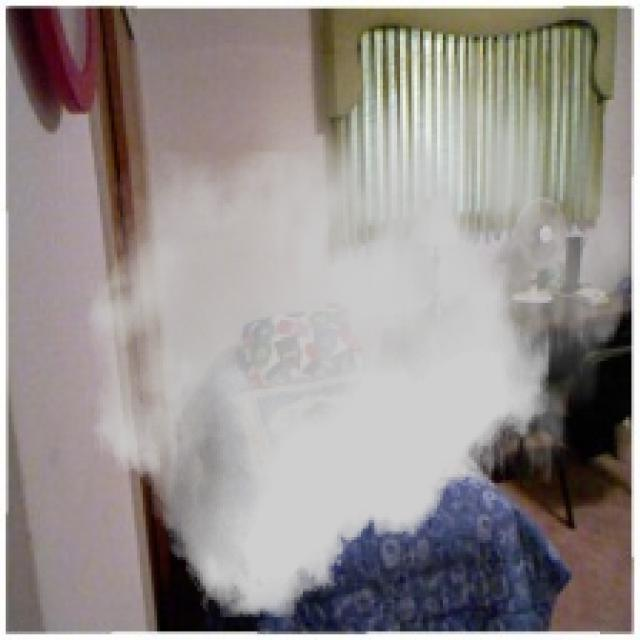smoke: (86, 54, 628, 617)
